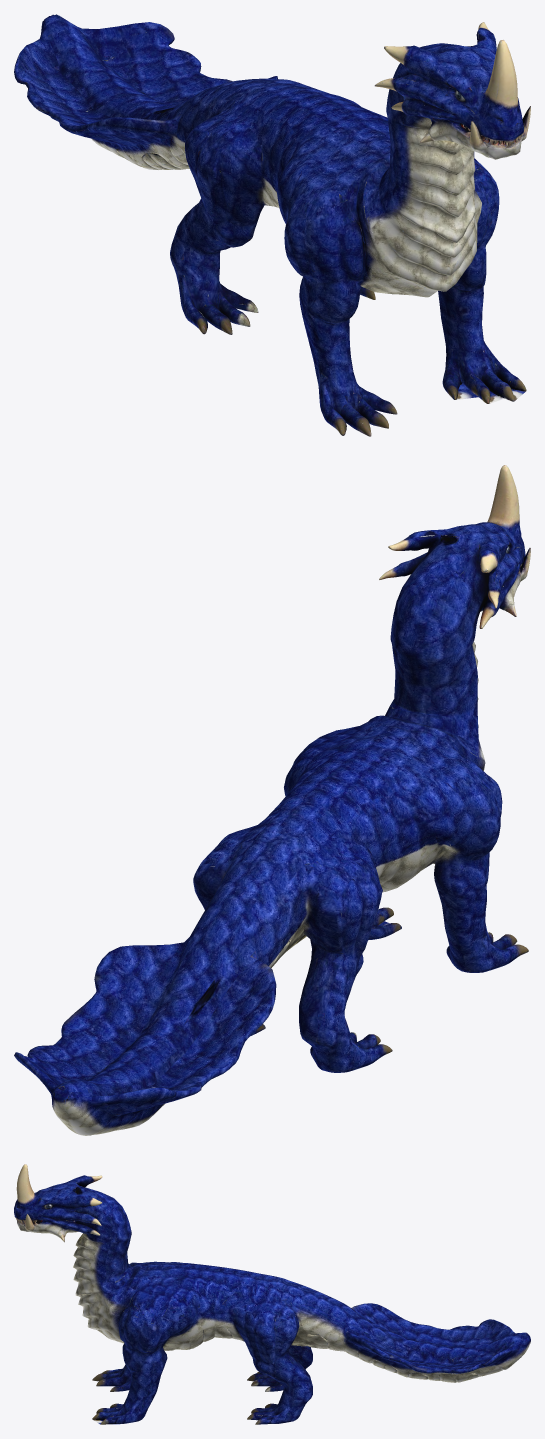
File: MZ4250 - Guard Drake.glb
The picture shows the model from 3 angles, top to bottom: view 1: azimuth 30°, elevation 25°; view 2: azimuth 150°, elevation 25°; view 3: azimuth 270°, elevation 25°; orthographic projection. The views are drawn at different scales.
Visible parts, largest first — view 1: default; view 2: default; view 3: default.
Boxes of the visible parts, box(x1,y1,x2,y2) form: default: box(14, 14, 530, 436); default: box(14, 465, 530, 1135); default: box(14, 1164, 530, 1424).
Bounding box in the file's own units: 0.4565 × 0.8959 × 1.78.
1 material, 1 textured.
